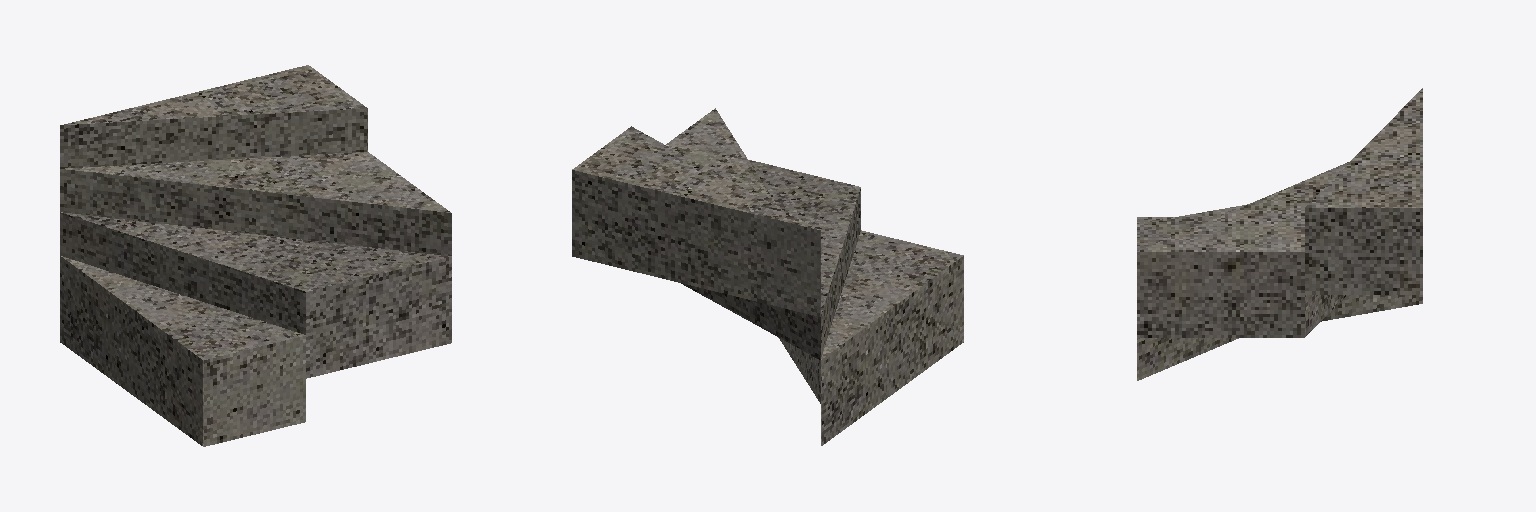
3 renders of one model, left to right at view 1: azimuth 30°, elevation 25°; view 2: azimuth 150°, elevation 25°; view 3: azimuth 270°, elevation 25°, orthographic.
Bounding box in the file's own units: 1 × 0.8333 × 1.
1 materials, 1 textured.